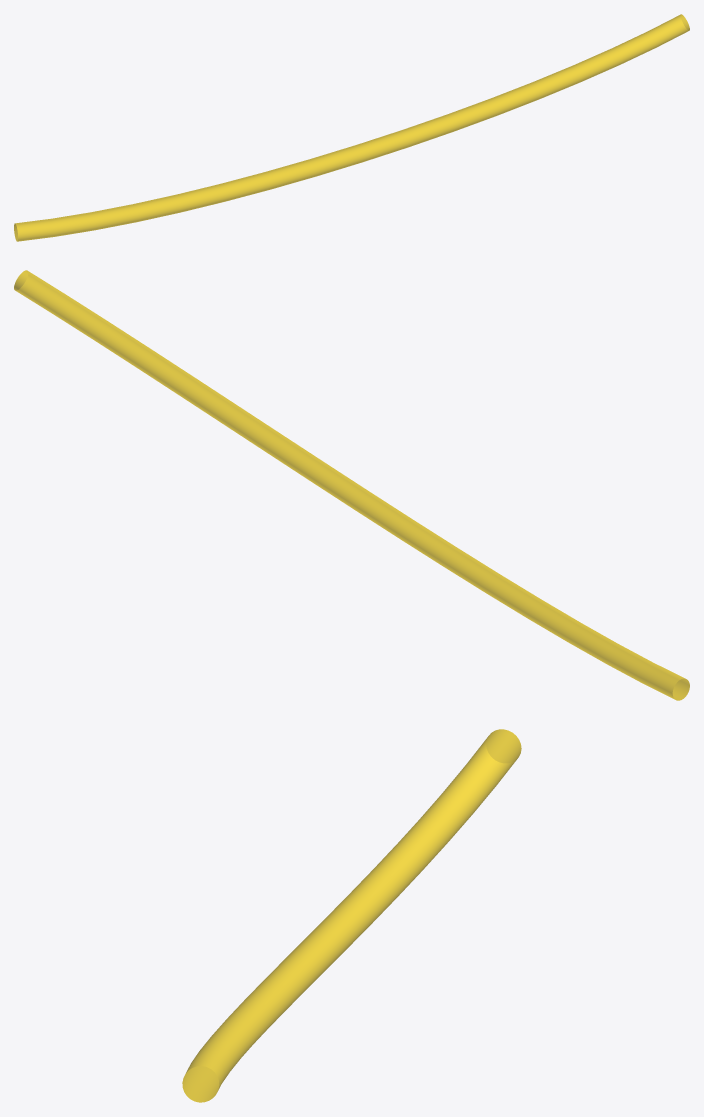
Rendered from Event_15818458_track_62.fbx.
3 renders of one model, top to bottom at view 1: azimuth 30°, elevation 25°; view 2: azimuth 150°, elevation 25°; view 3: azimuth 270°, elevation 25°, orthographic. The views are drawn at different scales.
Visible parts, largest first — view 1: Model; view 2: Model; view 3: Model.
Part boxes in pixels (left/top/right/bottom): Model: left=14, top=14, right=689, bottom=241; Model: left=14, top=270, right=689, bottom=700; Model: left=182, top=729, right=521, bottom=1102.
Bounding box in the file's own units: 1.49 × 0.3264 × 0.366.
